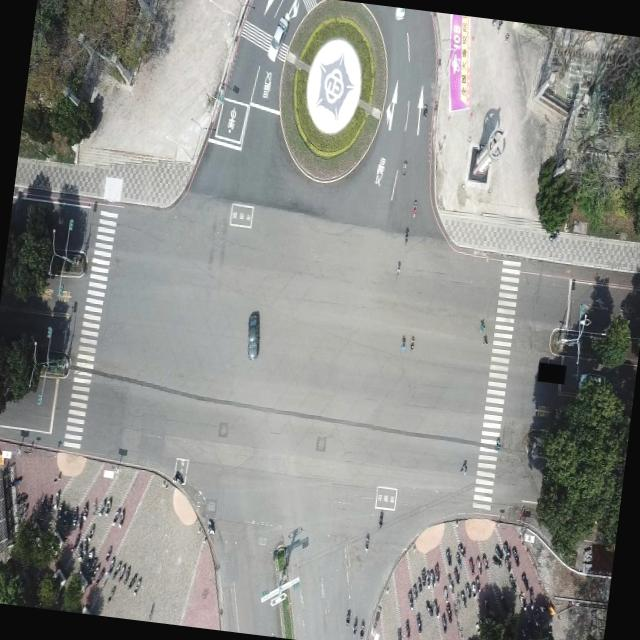bike: (205, 516, 216, 534), (364, 532, 371, 554), (459, 457, 468, 474), (399, 334, 406, 354), (494, 434, 502, 450), (478, 316, 486, 332), (377, 509, 384, 527), (408, 334, 415, 352), (395, 259, 401, 278), (403, 226, 409, 245), (401, 158, 407, 176), (482, 332, 488, 344)
car: (265, 12, 290, 62), (242, 308, 264, 361)
